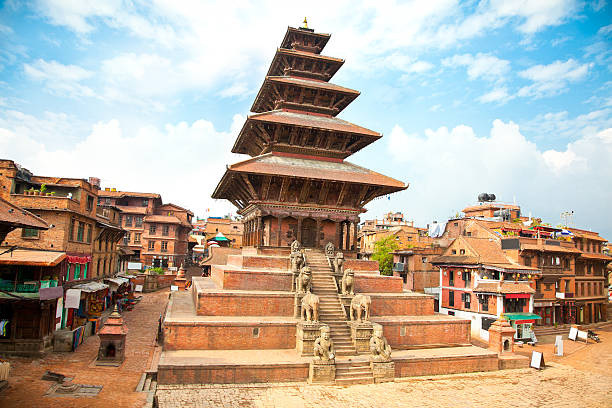nyathapola: (211, 8, 412, 390)
